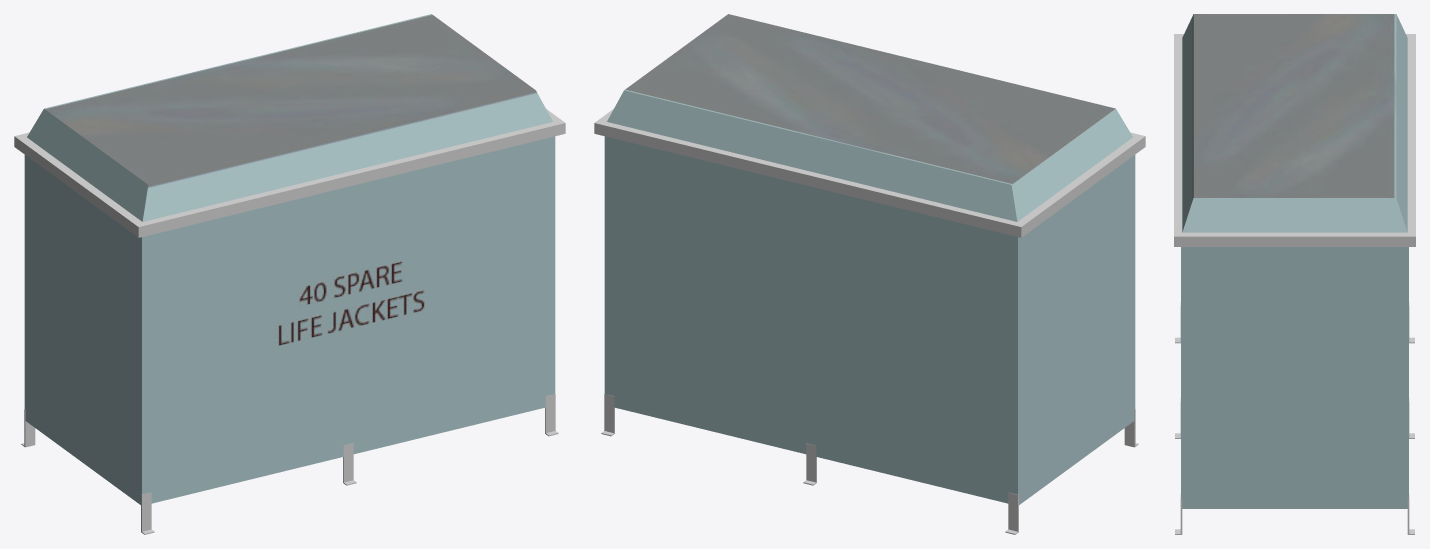
File: m_prom_lifejacketBox_high_r.fbx
The picture shows the model from 3 angles, left to right: view 1: azimuth 30°, elevation 25°; view 2: azimuth 150°, elevation 25°; view 3: azimuth 270°, elevation 25°; orthographic projection. The views are drawn at different scales.
Parts seen in each view (by area): view 1: polySurface1; view 2: polySurface1; view 3: polySurface1.
Boxes of the visible parts, bbox=[...] form: polySurface1: bbox=[14, 14, 565, 534]; polySurface1: bbox=[594, 14, 1145, 534]; polySurface1: bbox=[1174, 14, 1415, 534].
Size of the model in its own units: 56.82 by 43.23 by 28.65.
